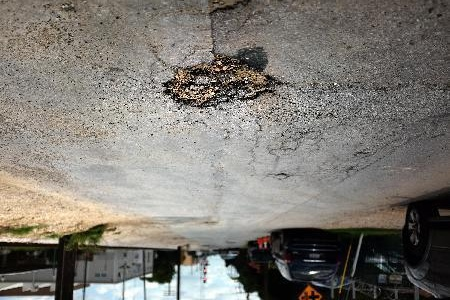pothole: (162, 55, 280, 108), (205, 0, 250, 18)
